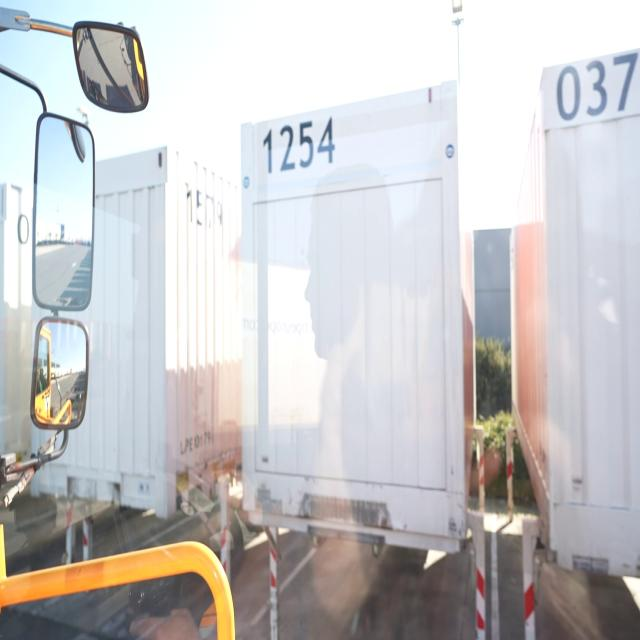Code: (260, 112, 336, 177)
